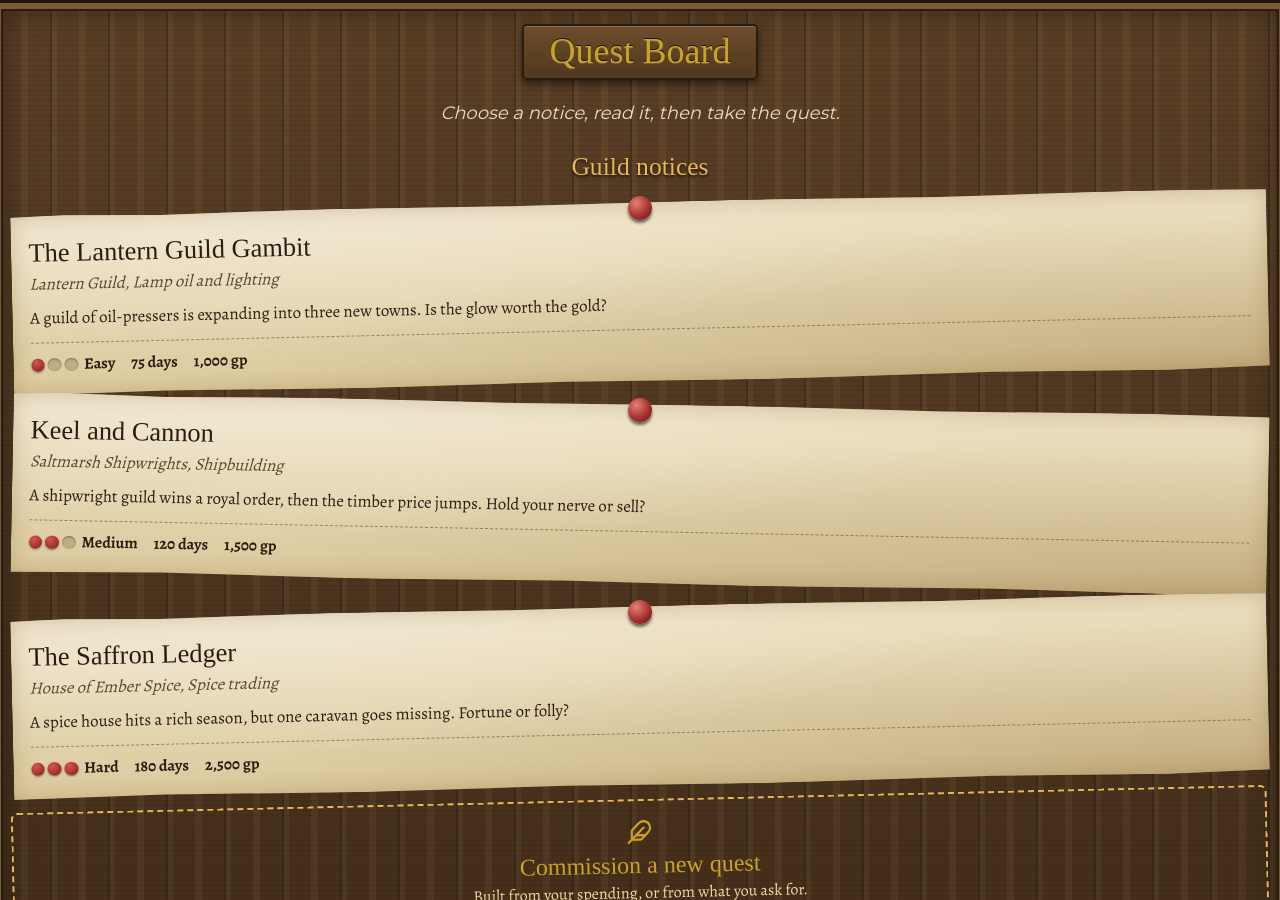
QuestBoard › Start posts /campaigns with the scenario_id and enters play
The width and height of the screenshot is (1280, 900).
Click the button with aria-label "Open quest: Keel and Cannon" at (640, 494), box [10,392,1270,596]
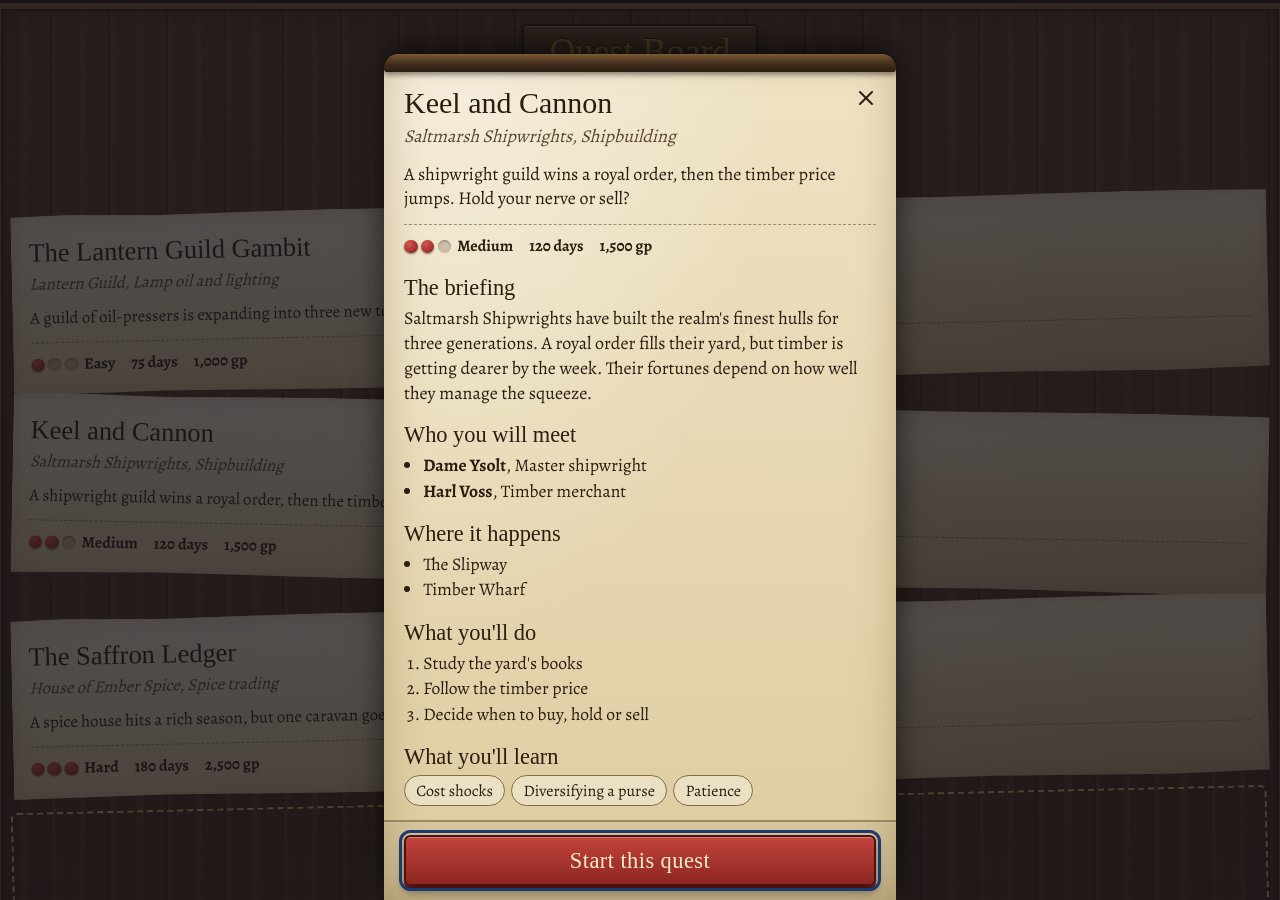
Click the button "Start this quest" at (640, 860), box [404,835,876,886]
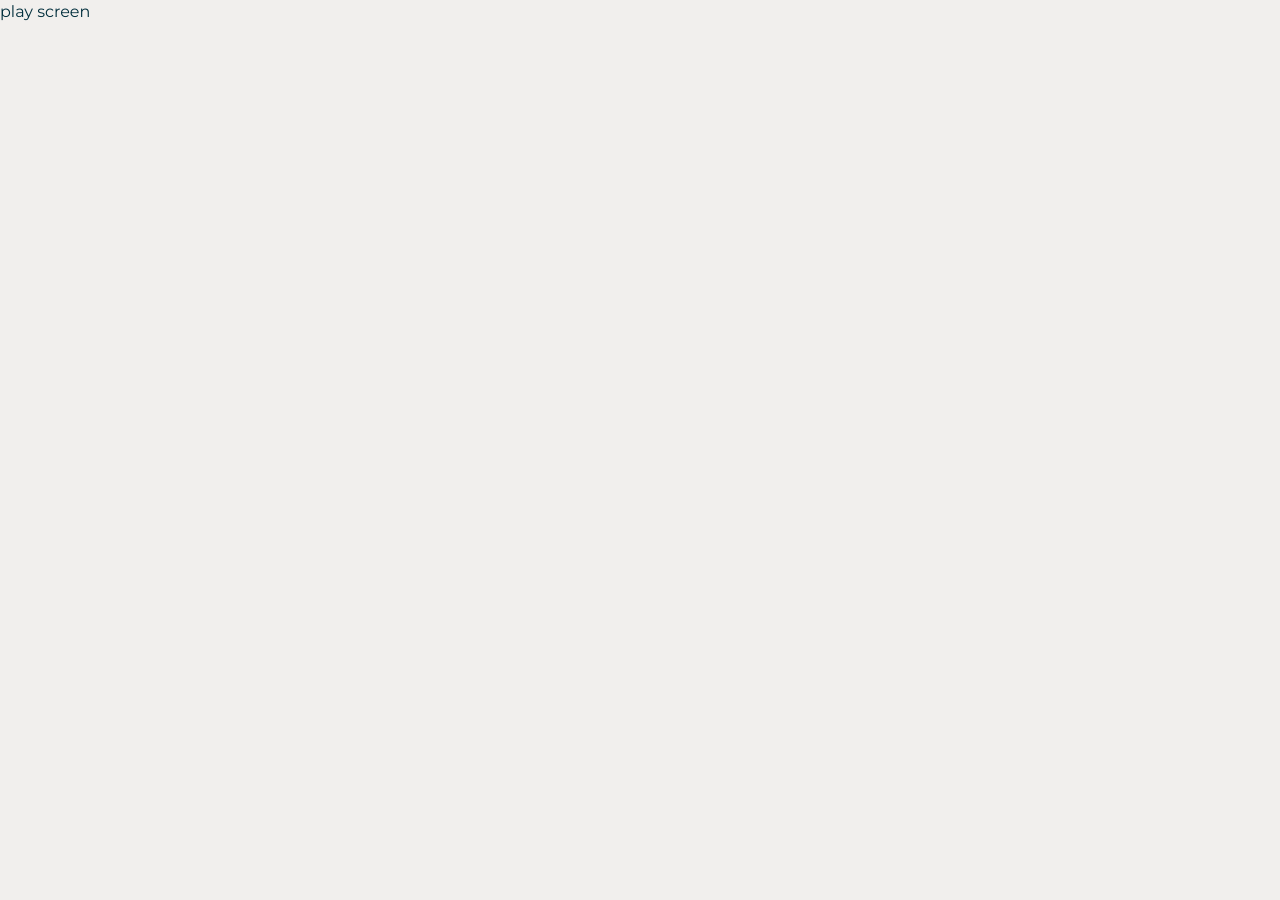
Check: the text "play screen" is shown, box [0,2,90,21]
